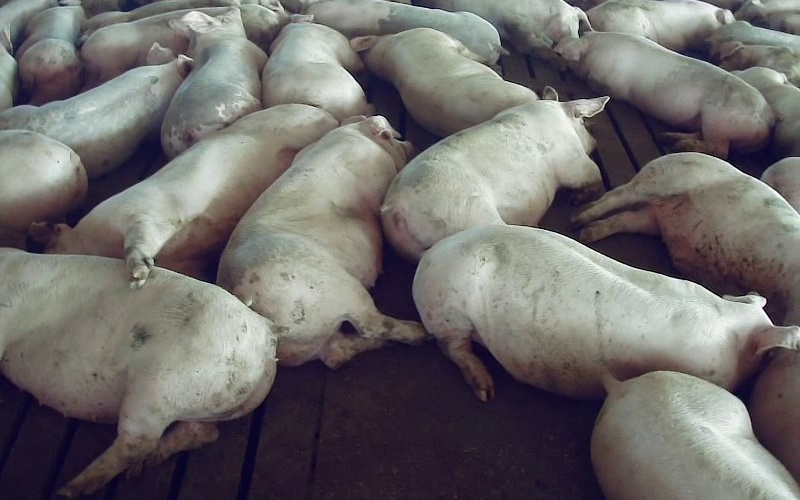pig: (413, 227, 799, 399), (32, 104, 337, 286), (218, 117, 426, 367), (381, 87, 608, 260), (574, 152, 799, 325), (555, 32, 773, 157), (591, 371, 799, 499), (0, 43, 192, 176), (351, 28, 538, 136), (161, 7, 266, 158), (303, 0, 503, 64), (413, 0, 590, 67), (262, 15, 370, 120), (587, 0, 734, 51), (732, 67, 799, 156)
